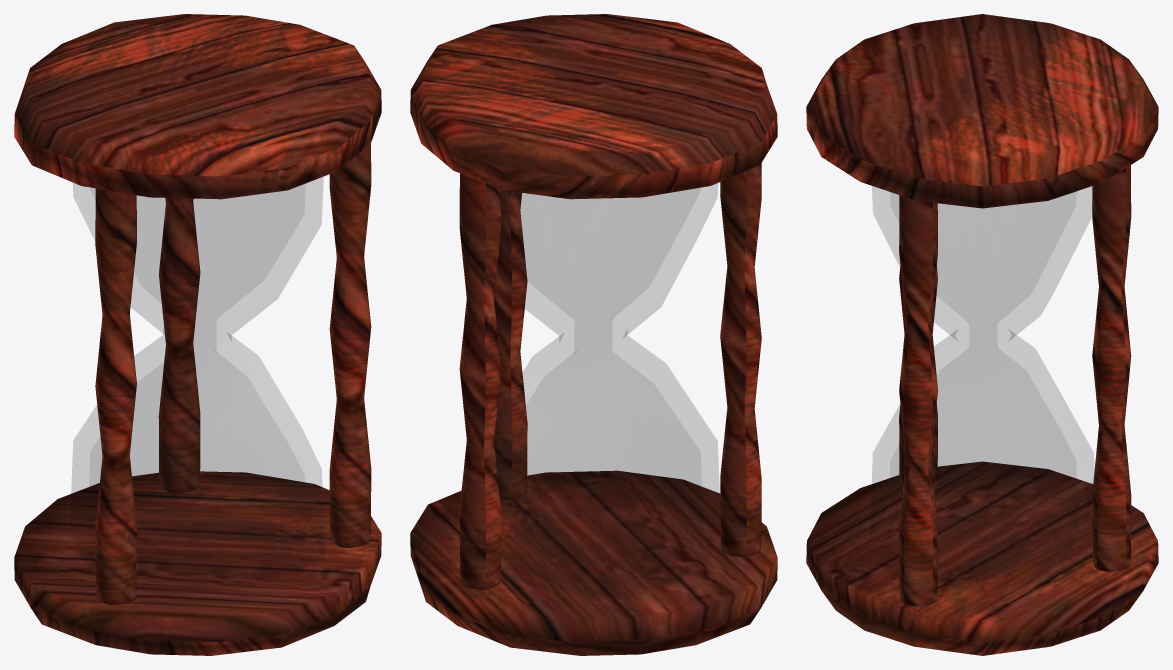
The model's file is hourglass.gltf.
3 renders of one model, left to right at view 1: azimuth 30°, elevation 25°; view 2: azimuth 150°, elevation 25°; view 3: azimuth 270°, elevation 25°, orthographic. The views are drawn at different scales.
Visible parts, largest first — view 1: Cube.007; view 2: Cube.007; view 3: Cube.007.
Part boxes in pixels (x1=…): Cube.007: x1=14, y1=14, x2=381, y2=655; Cube.007: x1=410, y1=14, x2=777, y2=655; Cube.007: x1=806, y1=14, x2=1158, y2=655.
Bounding box in the file's own units: 4.1 × 6.02 × 3.83.
